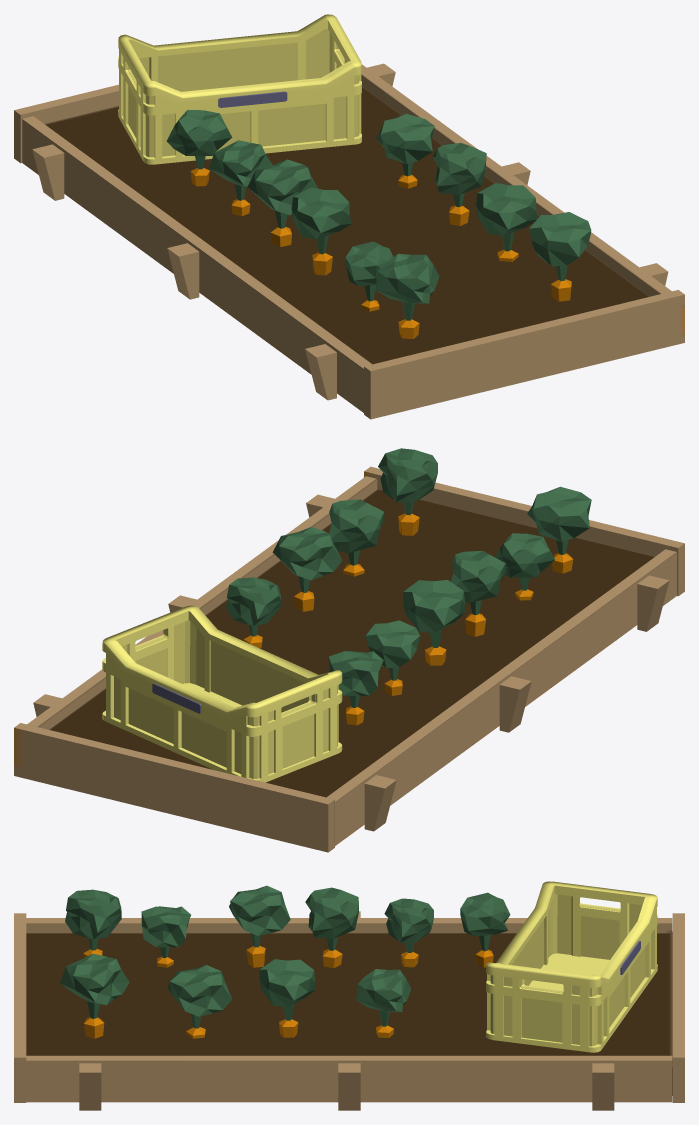
The model's file is wortel bak.fbx.
The picture shows the model from 3 angles, top to bottom: view 1: azimuth 30°, elevation 25°; view 2: azimuth 150°, elevation 25°; view 3: azimuth 270°, elevation 25°; orthographic projection. The views are drawn at different scales.
Parts seen in each view (by area): view 1: Cube.002, Cube.013, Icosphere, Icosphere.007, Icosphere.005, Icosphere.001, Icosphere.004, Icosphere.002, Icosphere.009, Icosphere.003, Icosphere.008, Icosphere.006; view 2: Cube.002, Cube.013, Icosphere.004, Icosphere, Icosphere.007, Icosphere.002, Icosphere.001, Icosphere.005, Icosphere.003, Icosphere.009, Icosphere.008, Icosphere.006; view 3: Cube.002, Cube.013, Icosphere, Icosphere.005, Icosphere.001, Icosphere.004, Icosphere.002, Icosphere.007, Icosphere.003, Icosphere.009, Icosphere.008, Icosphere.006.
Part boxes in pixels (x1,y1,x2,y2): Cube.002: (14,63,684,419); Cube.013: (118,14,361,164); Icosphere: (529,212,591,301); Icosphere.007: (375,253,439,338); Icosphere.005: (291,187,351,275); Icosphere.001: (476,183,537,261); Icosphere.004: (247,159,317,246); Icosphere.002: (432,143,486,225); Icosphere.009: (166,110,232,186); Icosphere.003: (375,113,434,188); Icosphere.008: (209,140,272,216); Icosphere.006: (345,241,393,311); Cube.002: (14,466,684,852); Cube.013: (102,605,342,782); Icosphere.004: (403,580,465,665); Icosphere: (378,448,437,535); Icosphere.007: (527,486,591,573); Icosphere.002: (272,527,342,611); Icosphere.001: (329,499,384,576); Icosphere.005: (451,550,506,636); Icosphere.003: (226,577,281,647); Icosphere.009: (328,651,383,725); Icosphere.008: (365,620,419,695); Icosphere.006: (495,533,554,600); Cube.002: (14,911,684,1110); Cube.013: (486,881,657,1052); Icosphere: (60,953,129,1038); Icosphere.005: (229,885,290,967); Icosphere.001: (167,965,231,1038); Icosphere.004: (305,887,358,967); Icosphere.002: (259,959,315,1037); Icosphere.007: (65,889,121,957); Icosphere.003: (356,969,411,1037); Icosphere.009: (460,892,510,967); Icosphere.008: (384,898,433,967); Icosphere.006: (141,906,190,967).
Bounding box in the file's own units: 439 × 168 × 770.
